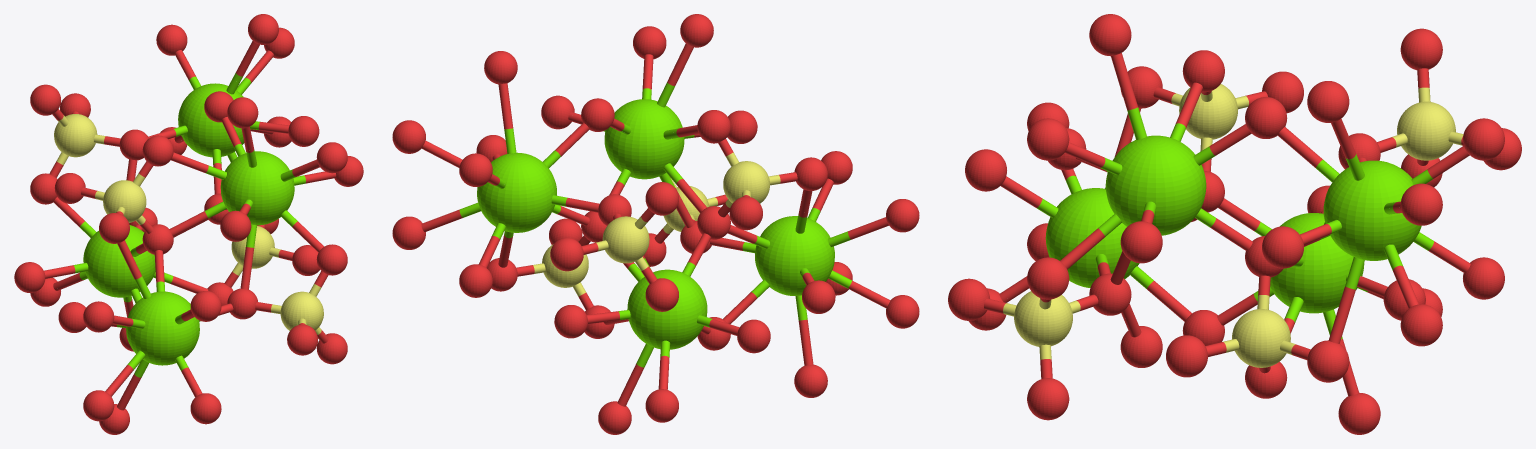
Rendered from calciumsulfate.dae.
The picture shows the model from 3 angles, left to right: view 1: azimuth 30°, elevation 25°; view 2: azimuth 150°, elevation 25°; view 3: azimuth 270°, elevation 25°; orthographic projection. The views are drawn at different scales.
Parts seen in each view (by area): view 1: Ball_Calcium_001, Ball_Calcium_003, Ball_Calcium_004, Ball_Calcium_002, Ball_Sulfur_003, Ball_Sulfur_002, Ball_Sulfur_004, Ball_Sulfur_001, Ball_Oxygen_031, Ball_Oxygen_009, Ball_Oxygen_018, Ball_Oxygen_017 (+29 smaller); view 2: Ball_Calcium_002, Ball_Calcium_003, Ball_Calcium_001, Ball_Calcium_004, Ball_Sulfur_003, Ball_Sulfur_002, Ball_Sulfur_001, Ball_Oxygen_034, Ball_Oxygen_035, Ball_Oxygen_003, Ball_Oxygen_031, Ball_Oxygen_037 (+30 smaller); view 3: Ball_Calcium_003, Ball_Calcium_002, Ball_Calcium_001, Ball_Calcium_004, Ball_Sulfur_003, Ball_Sulfur_001, Ball_Sulfur_004, Ball_Sulfur_002, Ball_Oxygen_030, Ball_Oxygen_029, Ball_Oxygen_011, Ball_Oxygen_016 (+31 smaller).
Boxes of the visible parts, <box> form: Ball_Calcium_001: <box>126,291,199,365</box>; Ball_Calcium_003: <box>220,151,294,225</box>; Ball_Calcium_004: <box>83,225,155,297</box>; Ball_Calcium_002: <box>178,83,250,157</box>; Ball_Sulfur_003: <box>54,114,97,157</box>; Ball_Sulfur_002: <box>103,180,146,222</box>; Ball_Sulfur_004: <box>280,291,323,330</box>; Ball_Sulfur_001: <box>231,226,274,268</box>; Ball_Oxygen_031: <box>227,97,258,128</box>; Ball_Oxygen_009: <box>142,135,173,166</box>; Ball_Oxygen_018: <box>83,301,114,332</box>; Ball_Oxygen_017: <box>83,390,114,421</box>; Ball_Calcium_002: <box>477,152,556,232</box>; Ball_Calcium_003: <box>604,99,684,179</box>; Ball_Calcium_001: <box>755,216,834,295</box>; Ball_Calcium_004: <box>627,269,707,349</box>; Ball_Sulfur_003: <box>602,216,649,263</box>; Ball_Sulfur_002: <box>723,161,769,203</box>; Ball_Sulfur_001: <box>542,244,588,287</box>; Ball_Oxygen_034: <box>737,319,770,353</box>; Ball_Oxygen_035: <box>645,389,678,422</box>; Ball_Oxygen_003: <box>729,196,762,230</box>; Ball_Oxygen_031: <box>680,14,713,47</box>; Ball_Oxygen_037: <box>550,237,583,271</box>; Ball_Calcium_003: <box>1105,135,1206,235</box>; Ball_Calcium_002: <box>1323,160,1421,260</box>; Ball_Calcium_001: <box>1045,188,1139,287</box>; Ball_Calcium_004: <box>1270,213,1364,313</box>; Ball_Sulfur_003: <box>1397,101,1455,160</box>; Ball_Sulfur_001: <box>1232,309,1290,367</box>; Ball_Sulfur_004: <box>1014,291,1072,346</box>; Ball_Sulfur_002: <box>1179,84,1237,139</box>; Ball_Oxygen_030: <box>1400,183,1442,225</box>; Ball_Oxygen_029: <box>1400,304,1442,346</box>; Ball_Oxygen_011: <box>1027,378,1069,420</box>; Ball_Oxygen_016: <box>1027,257,1069,299</box>.
Size of the model in its own units: 9.36 by 9.92 by 8.16.
